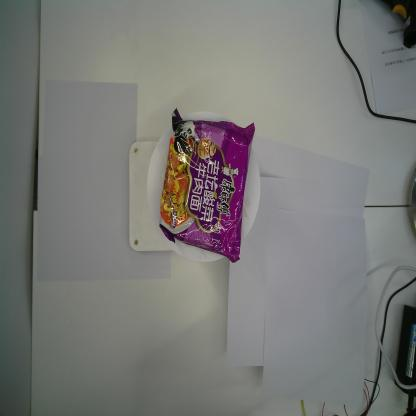Instant Noodles: (159, 106, 255, 263)
